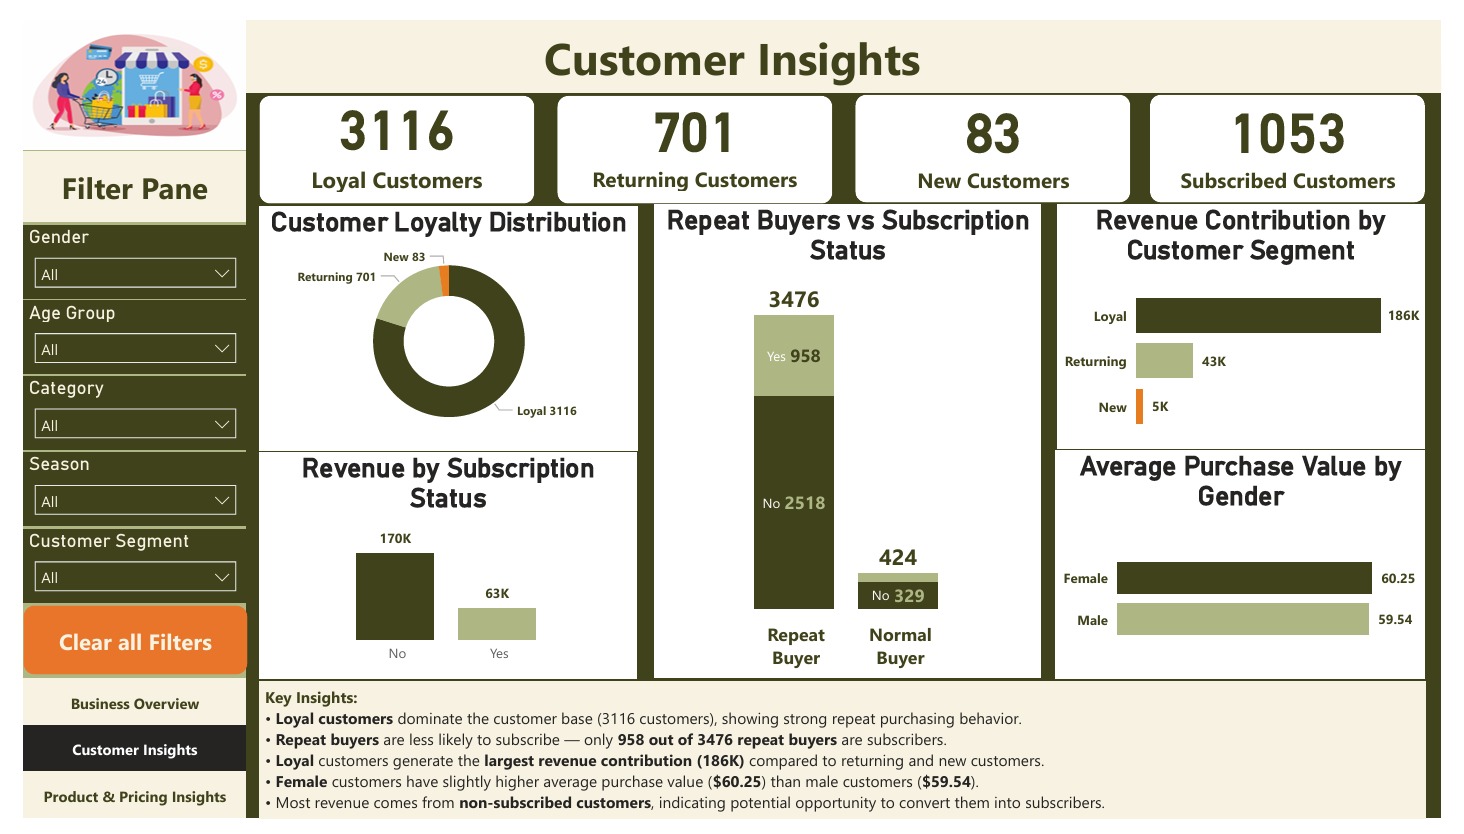

The page's visual inventory and layout, read from the dashboard file:
{"tool":"powerbi","page":{"name":"Customer Insights","canvas":[1280,720],"ordinal":1},"visuals":[{"type":"shape","box":[0,0,1279.5,65],"z":0},{"type":"clusteredBarChart","title":"Revenue Contribution by Customer Segment","fields":{"Y":["customer_shopping_behavior.total_revenue"],"Category":["customer_shopping_behavior.customer_segment"]},"box":[932.8,166,332.7,220.8],"z":1000},{"type":"shape","box":[0,0,201.4,719.2],"z":2000},{"type":"shape","box":[213,67.8,248.3,96.9],"z":2000,"group":"g2"},{"type":"group","id":"g1","title":"Group 4","box":[1016.8,63,248.7,105.7],"z":3000},{"type":"shape","box":[481.9,67.8,248.3,96.9],"z":3000,"group":"g3"},{"type":"shape","box":[750.9,67,248.3,96.9],"z":4000,"group":"g4"},{"type":"clusteredColumnChart","title":"Revenue by Subscription Status","fields":{"Y":["customer_shopping_behavior.total_revenue"],"Category":["customer_shopping_behavior.subscription_status"]},"box":[213.1,389.6,341.3,204],"z":4000},{"type":"shape","box":[1016.8,66.9,248.3,96.9],"z":5000,"group":"g1"},{"type":"donutChart","title":"Customer Loyalty Distribution","fields":{"Category":["customer_shopping_behavior.customer_segment"],"Y":["customer_shopping_behavior.total_customers"]},"box":[213,168,342,220.8],"z":5000},{"type":"image","box":[0,0,201.4,116.6],"z":6000},{"type":"card","fields":{"Values":["CountNonNull(customer_shopping_behavior.customer_segment)"]},"box":[237.5,60,200,106],"z":6000,"group":"g2"},{"type":"card","fields":{"Values":["CountNonNull(customer_shopping_behavior.customer_segment)"]},"box":[505.8,62,200.3,105.8],"z":7000,"group":"g3"},{"type":"slicer","title":"Gender","fields":{"Values":["customer_shopping_behavior.gender"]},"box":[0,185,202.2,66.1],"z":7000},{"type":"card","fields":{"Values":["CountNonNull(customer_shopping_behavior.customer_segment)"]},"box":[775.3,58,200.3,105.8],"z":8000,"group":"g4"},{"type":"slicer","title":"Age Group","fields":{"Values":["customer_shopping_behavior.age_group"]},"box":[0,253,202.2,66.1],"z":8000},{"type":"card","fields":{"Values":["customer_shopping_behavior.subscribed_customers"]},"box":[1041.3,63,200.3,105.8],"z":9000,"group":"g1"},{"type":"slicer","title":"Category","fields":{"Values":["customer_shopping_behavior.category"]},"box":[0,321,202.2,66.1],"z":9000},{"type":"slicer","title":"Season","fields":{"Values":["customer_shopping_behavior.season"]},"box":[0,390,202.2,66.1],"z":10000},{"type":"slicer","title":"Customer Segment","fields":{"Values":["customer_shopping_behavior.customer_segment"]},"box":[0,459,202.2,66.1],"z":11000},{"type":"shape","box":[0,117.7,201.4,64.1],"z":12000},{"type":"actionButton","box":[0,528,202.2,62.4],"z":13000},{"type":"pageNavigator","box":[0,593.6,201.4,126.8],"z":14000},{"type":"group","id":"g2","title":"Group 1","box":[213,60,248.7,107.3],"z":15000},{"type":"group","id":"g3","title":"Group 2","box":[481.9,62,248.7,105.7],"z":16000},{"type":"group","id":"g4","title":"Group 3","box":[750.9,58,247.2,105.7],"z":17000},{"type":"barChart","title":"Average Purchase Value by Gender","fields":{"Y":["Avg(customer_shopping_behavior.purchase_amount)"],"Category":["customer_shopping_behavior.gender"]},"box":[932.3,388.3,333.4,205.3],"z":18000},{"type":"columnChart","title":"Repeat Buyers vs Subscription Status","fields":{"Category":["customer_shopping_behavior.repeat_buyer"],"Series":["customer_shopping_behavior.subscription_status"],"Y":["customer_shopping_behavior.total_customers"]},"box":[570.1,166.1,349.1,427],"z":19000},{"type":"textbox","box":[213.1,596.2,1052.6,124.2],"z":20000}]}

Visuals, with their boxes in screenshot pixels (x1, y1, x2, y2), scaled from the page's 1280x720 canvas onto the 1464x834 screenshot:
shape: <box>0,0,1463,75</box>
"Revenue Contribution by Customer Segment" clusteredBarChart: <box>1067,192,1447,448</box>
shape: <box>0,0,230,833</box>
shape: <box>244,79,528,191</box>
"Group 4" group: <box>1163,73,1447,195</box>
shape: <box>551,79,835,191</box>
shape: <box>859,78,1143,190</box>
"Revenue by Subscription Status" clusteredColumnChart: <box>244,451,634,688</box>
shape: <box>1163,77,1447,190</box>
"Customer Loyalty Distribution" donutChart: <box>244,195,635,450</box>
image: <box>0,0,230,135</box>
card - CountNonNull(customer_shopping_behavior.customer_segment): <box>272,70,500,192</box>
card - CountNonNull(customer_shopping_behavior.customer_segment): <box>579,72,808,194</box>
"Gender" slicer: <box>0,214,231,291</box>
card - CountNonNull(customer_shopping_behavior.customer_segment): <box>887,67,1116,190</box>
"Age Group" slicer: <box>0,293,231,370</box>
card - customer_shopping_behavior.subscribed_customers: <box>1191,73,1420,196</box>
"Category" slicer: <box>0,372,231,448</box>
"Season" slicer: <box>0,452,231,528</box>
"Customer Segment" slicer: <box>0,532,231,608</box>
shape: <box>0,136,230,211</box>
actionButton: <box>0,612,231,684</box>
pageNavigator: <box>0,688,230,833</box>
"Group 1" group: <box>244,70,528,194</box>
"Group 2" group: <box>551,72,836,194</box>
"Group 3" group: <box>859,67,1142,190</box>
"Average Purchase Value by Gender" barChart: <box>1066,450,1448,688</box>
"Repeat Buyers vs Subscription Status" columnChart: <box>652,192,1051,687</box>
textbox: <box>244,691,1448,833</box>
